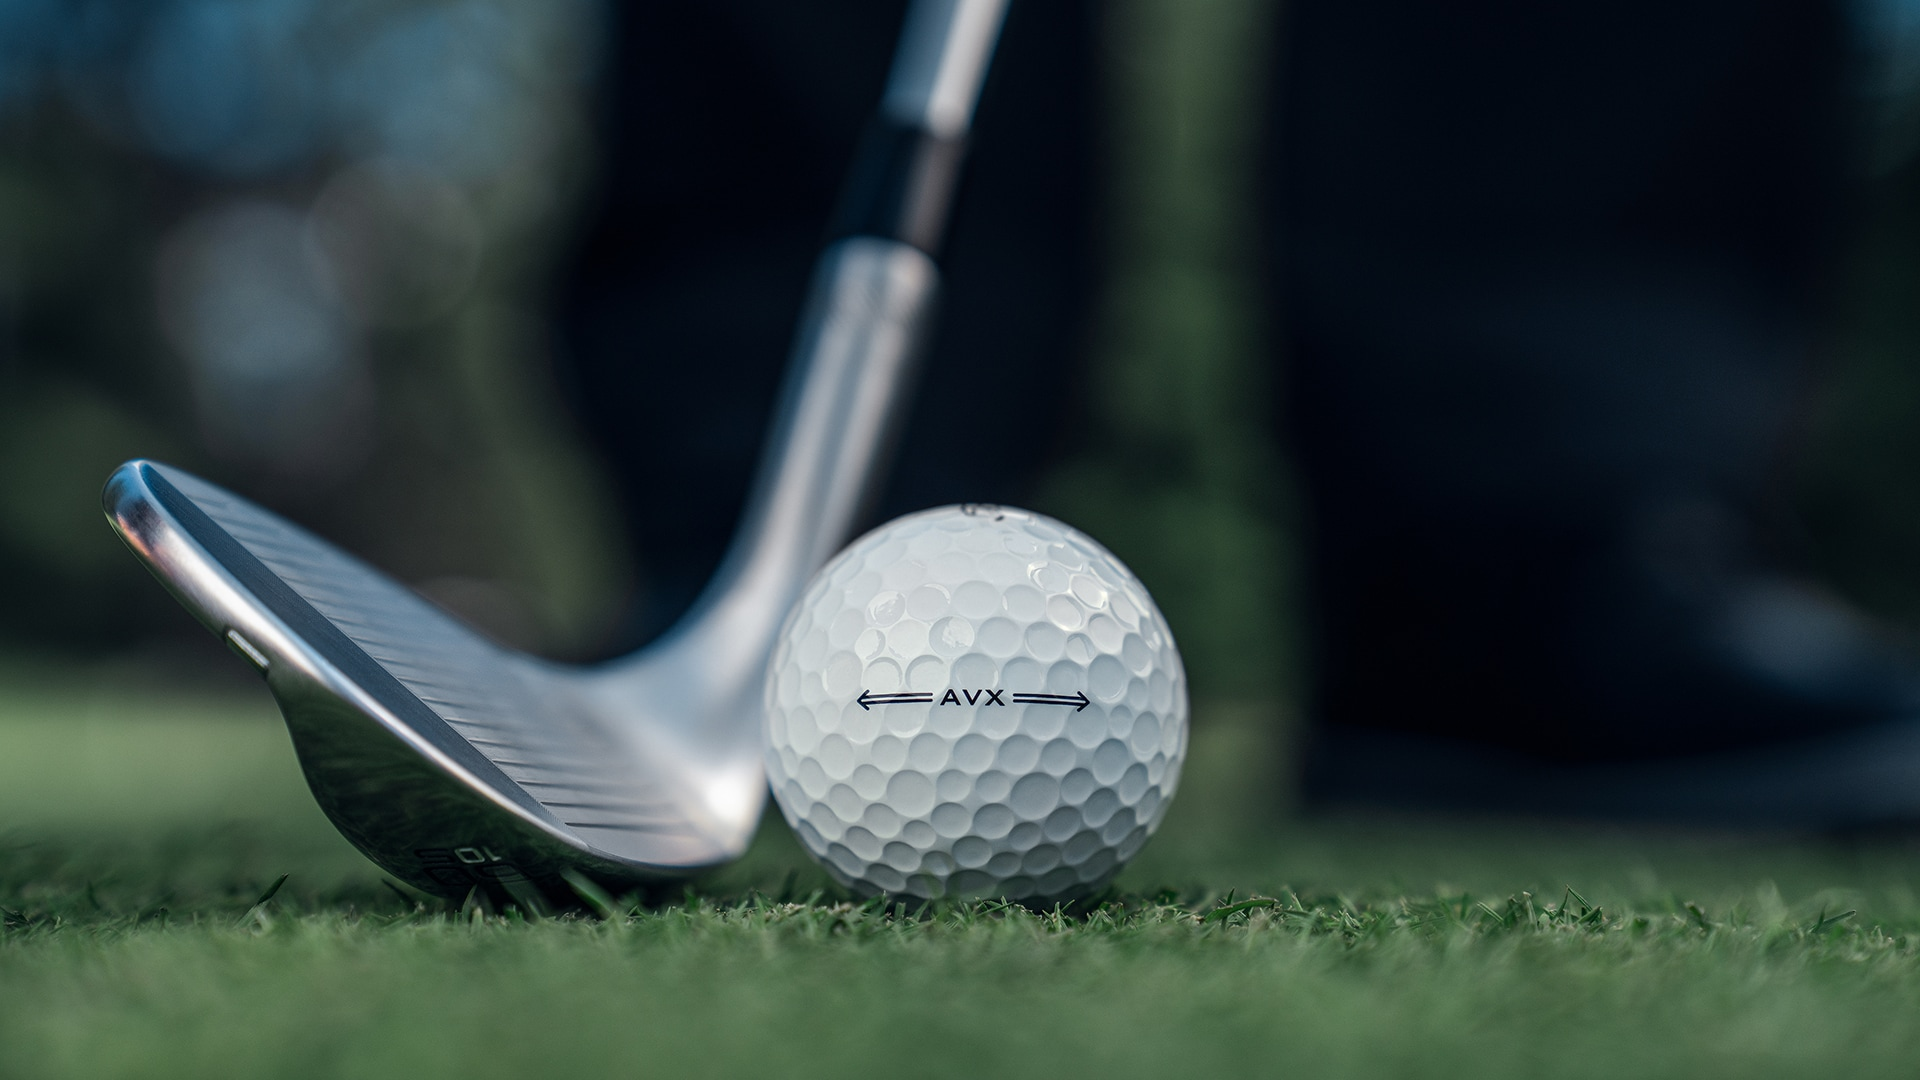golfball: (760, 498, 1197, 928)
